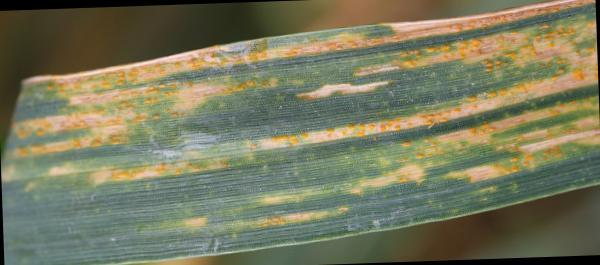Wheat: (25, 80, 187, 152), (478, 80, 542, 186), (269, 111, 386, 156), (389, 105, 470, 162), (406, 28, 477, 75), (478, 33, 543, 80), (547, 35, 597, 90), (297, 35, 383, 63), (149, 56, 247, 80)
